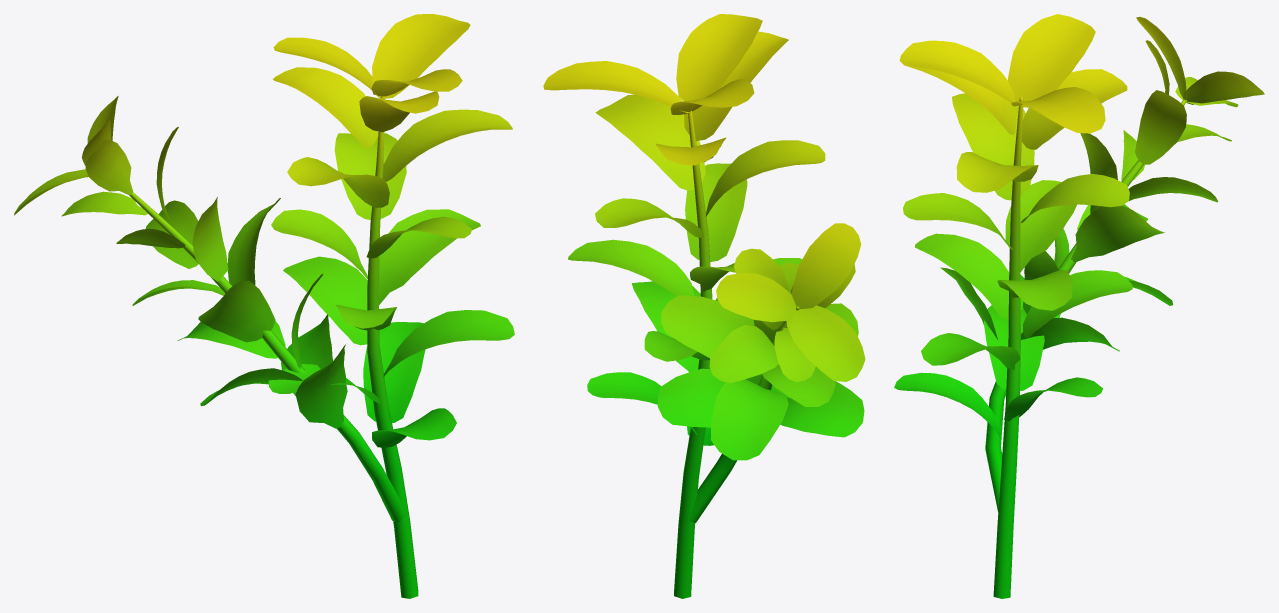
The model's file is Lingonberry_LOD0_Var10.fbx.
3 views of the same model, side by side, from view 1: azimuth 30°, elevation 25°; view 2: azimuth 150°, elevation 25°; view 3: azimuth 270°, elevation 25° (orthographic). The views are drawn at different scales.
Visible parts, largest first — view 1: _dolt_Var10_LOD0; view 2: _dolt_Var10_LOD0; view 3: _dolt_Var10_LOD0.
Part boxes in pixels (x1,y1,x2,y2): _dolt_Var10_LOD0: [14, 14, 514, 598]; _dolt_Var10_LOD0: [543, 14, 865, 598]; _dolt_Var10_LOD0: [894, 14, 1264, 598].
Size of the model in its own units: 6.35 by 8.68 by 5.44.
